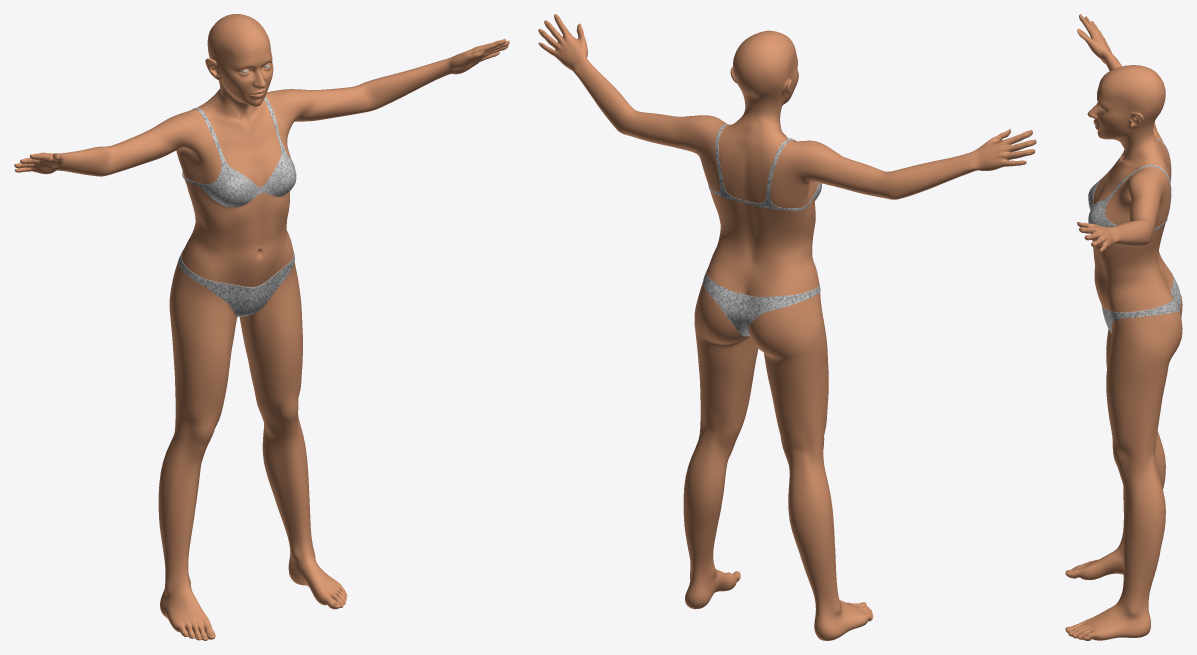
File: Antonia.fbx
3 renders of one model, left to right at view 1: azimuth 30°, elevation 25°; view 2: azimuth 150°, elevation 25°; view 3: azimuth 270°, elevation 25°, orthographic. The views are drawn at different scales.
Visible parts, largest first — view 1: cm_antonia, bra, panties; view 2: cm_antonia, panties, bra; view 3: cm_antonia, bra, panties.
Part boxes in pixels (<box>): cm_antonia: <box>14,14,509,640</box>; bra: <box>182,96,296,207</box>; panties: <box>178,249,294,316</box>; cm_antonia: <box>538,14,1036,640</box>; panties: <box>703,269,820,336</box>; bra: <box>708,124,821,210</box>; cm_antonia: <box>1065,14,1182,640</box>; bra: <box>1088,138,1171,230</box>; panties: <box>1101,273,1180,333</box>.
Bounding box in the file's own units: 155 × 175 × 34.4.
9 materials, 2 textured.
